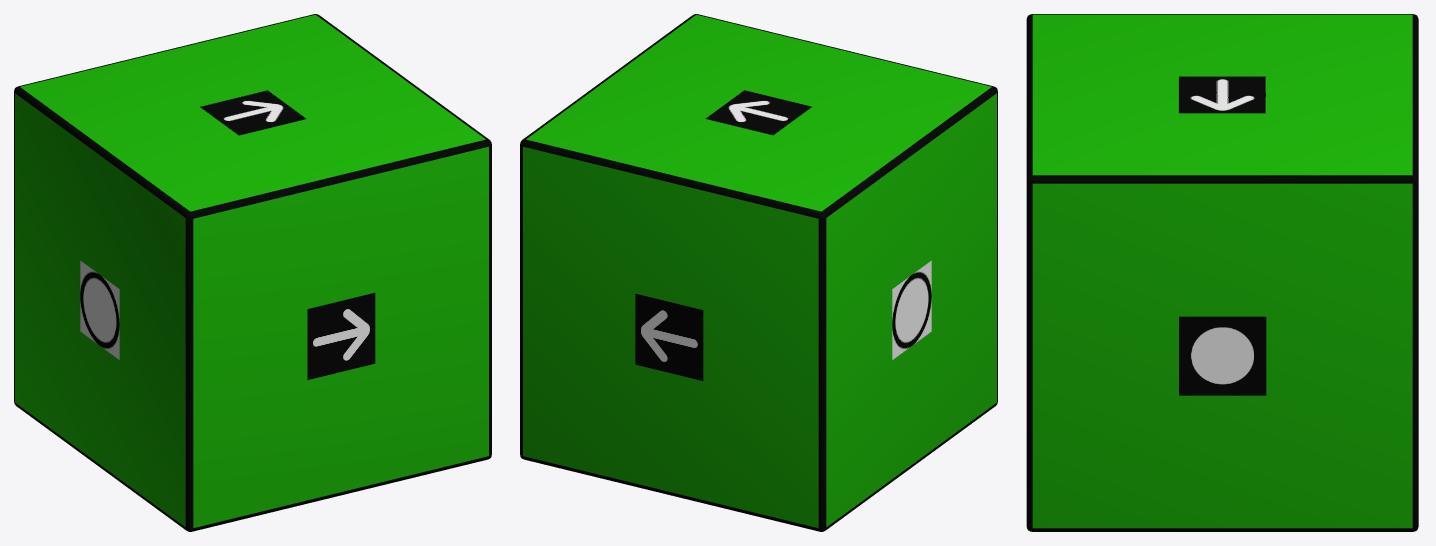
Rendered from BigBoxTapFlowBox_3_3_3_Line.fbx.
The picture shows the model from 3 angles, left to right: view 1: azimuth 30°, elevation 25°; view 2: azimuth 150°, elevation 25°; view 3: azimuth 270°, elevation 25°; orthographic projection. The views are drawn at different scales.
Parts seen in each view (by area): view 1: BigBoxTapFlowBox_3_3_3; view 2: BigBoxTapFlowBox_3_3_3; view 3: BigBoxTapFlowBox_3_3_3.
Part boxes in pixels (bbox=[...]): BigBoxTapFlowBox_3_3_3: bbox=[14, 14, 491, 531]; BigBoxTapFlowBox_3_3_3: bbox=[520, 14, 997, 531]; BigBoxTapFlowBox_3_3_3: bbox=[1026, 14, 1418, 531].
Bounding box in the file's own units: 3.15 × 3.15 × 3.17.
1 material, 1 textured.
